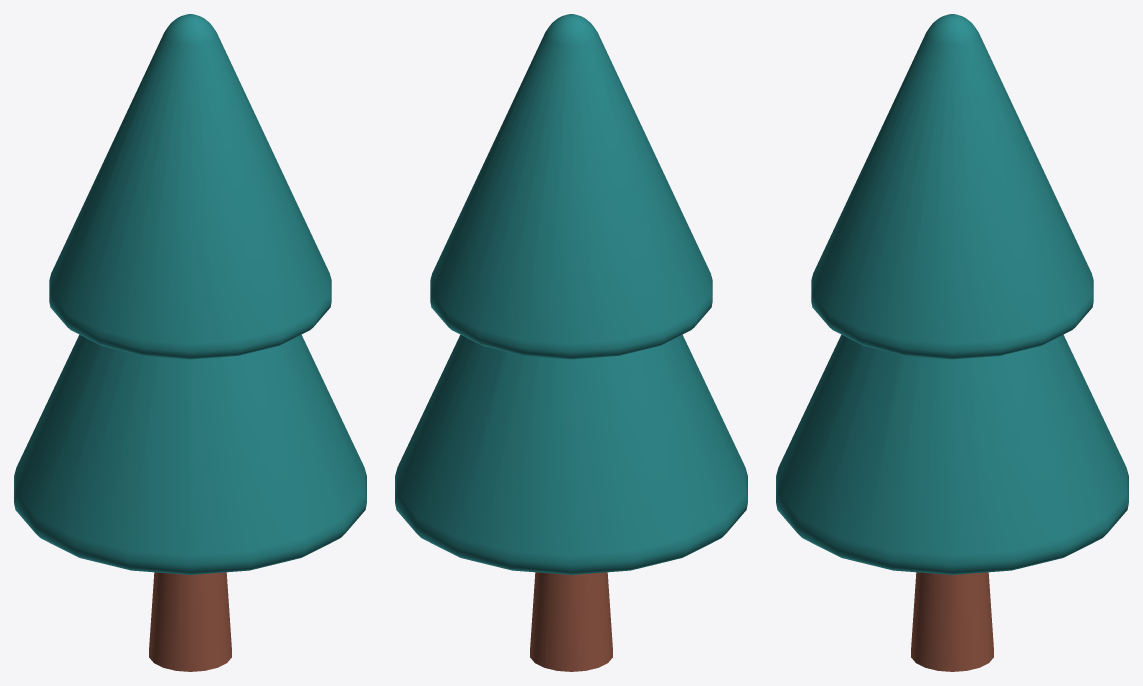
File: tree_forest-col.glb
The picture shows the model from 3 angles, left to right: view 1: azimuth 30°, elevation 25°; view 2: azimuth 150°, elevation 25°; view 3: azimuth 270°, elevation 25°; orthographic projection.
Parts seen in each view (by area): view 1: tree_forest-col; view 2: tree_forest-col; view 3: tree_forest-col.
Part boxes in pixels (left/top/right/bottom): tree_forest-col: left=14, top=14, right=366, bottom=671; tree_forest-col: left=395, top=14, right=747, bottom=671; tree_forest-col: left=776, top=14, right=1128, bottom=671.
Size of the model in its own units: 1.53 by 3 by 1.5.
